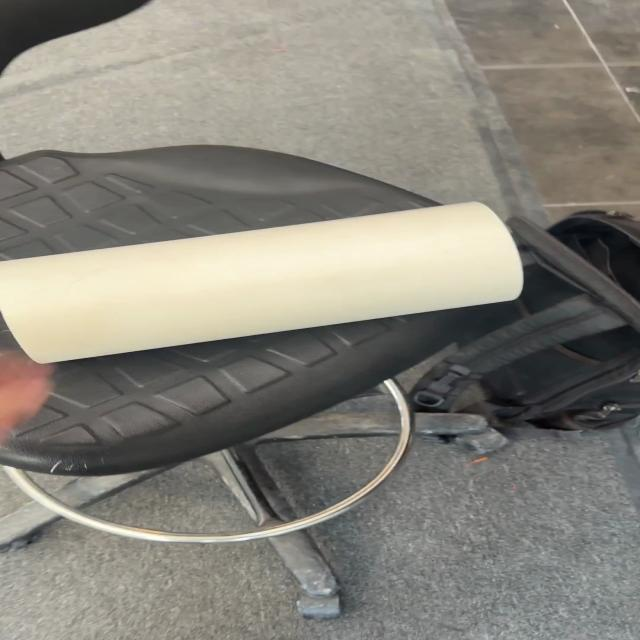Coral: (1, 199, 526, 365)
